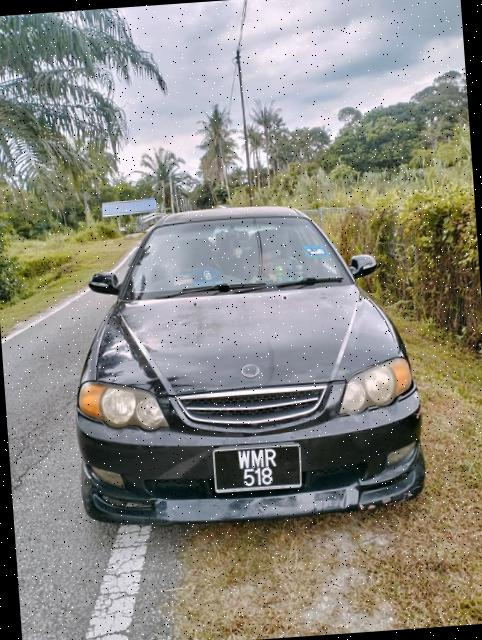License_Plate: (212, 445, 301, 493)
car: (57, 188, 430, 538)
